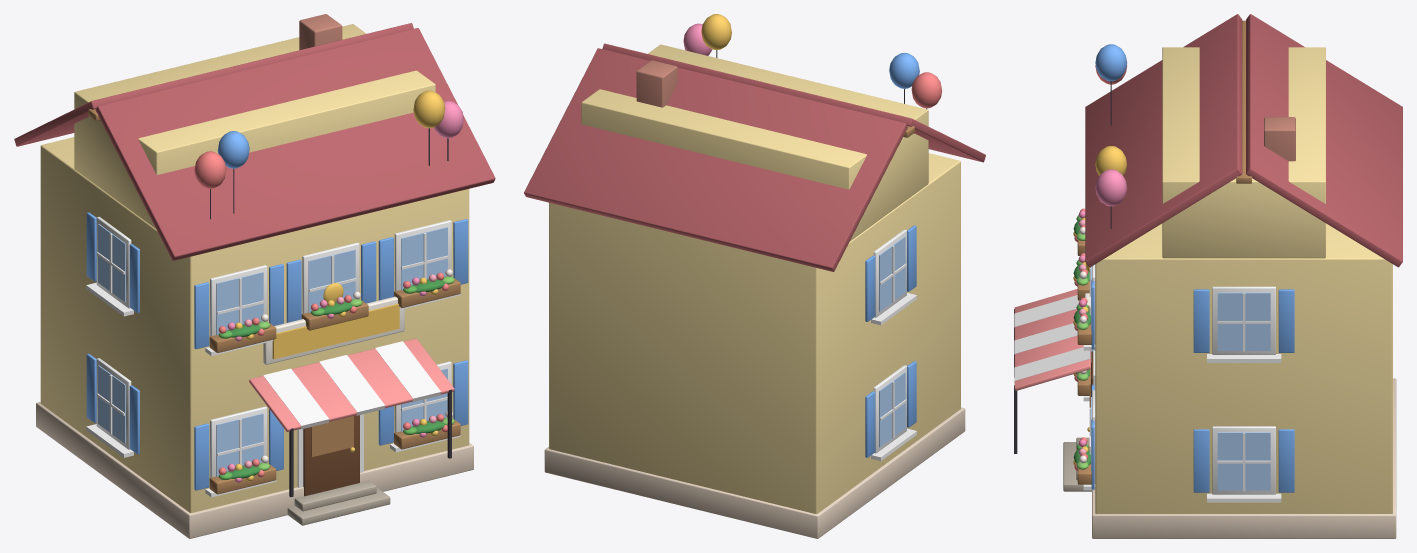
The model's file is shop_pow.glb.
The picture shows the model from 3 angles, left to right: view 1: azimuth 30°, elevation 25°; view 2: azimuth 150°, elevation 25°; view 3: azimuth 270°, elevation 25°; orthographic projection. The views are drawn at different scales.
Parts seen in each view (by area): view 1: shop_pow; view 2: shop_pow; view 3: shop_pow.
Boxes of the visible parts, box(x1,y1,x2,y2) form: shop_pow: box(14, 14, 495, 538); shop_pow: box(524, 14, 985, 538); shop_pow: box(1014, 14, 1402, 538).
Bounding box in the file's own units: 7 × 8.05 × 7.32.
